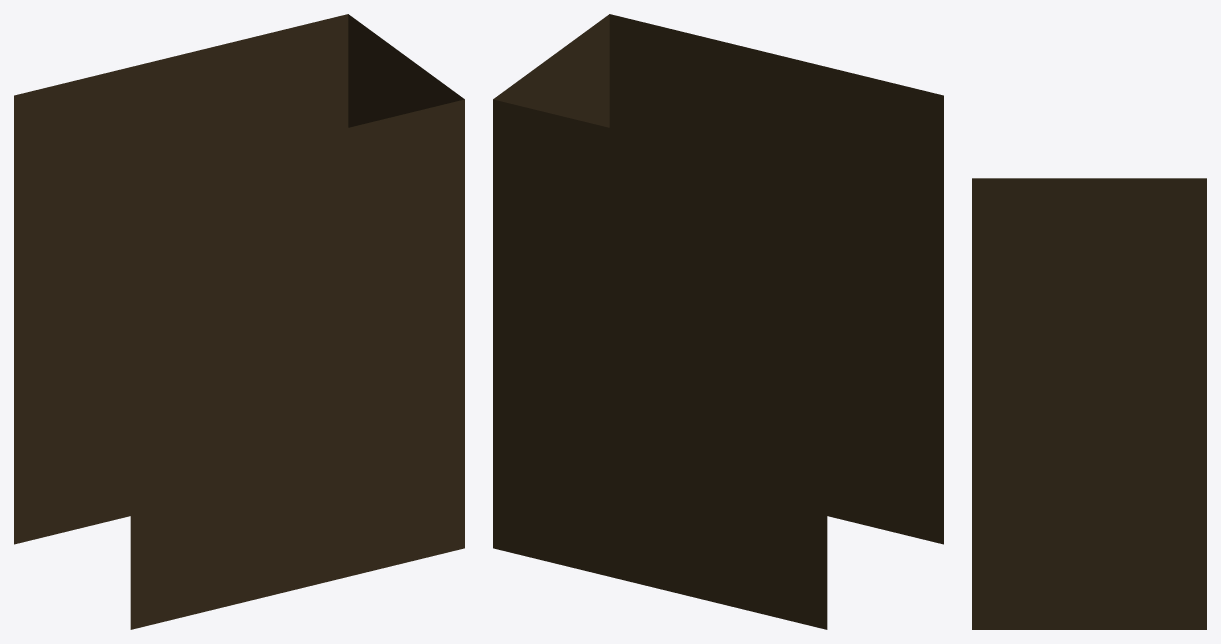
File: Itr_Bartable_Body_Right_02.FBX
The picture shows the model from 3 angles, left to right: view 1: azimuth 30°, elevation 25°; view 2: azimuth 150°, elevation 25°; view 3: azimuth 270°, elevation 25°; orthographic projection.
Parts seen in each view (by area): view 1: Itr_Bartable_Body_Right_02; view 2: Itr_Bartable_Body_Right_02; view 3: Itr_Bartable_Body_Right_02.
Part boxes in pixels (x1=…): Itr_Bartable_Body_Right_02: x1=14, y1=14, x2=464, y2=629; Itr_Bartable_Body_Right_02: x1=493, y1=14, x2=943, y2=629; Itr_Bartable_Body_Right_02: x1=972, y1=178, x2=1206, y2=629.
Bounding box in the file's own units: 20.04 × 25.72 × 12.11.
